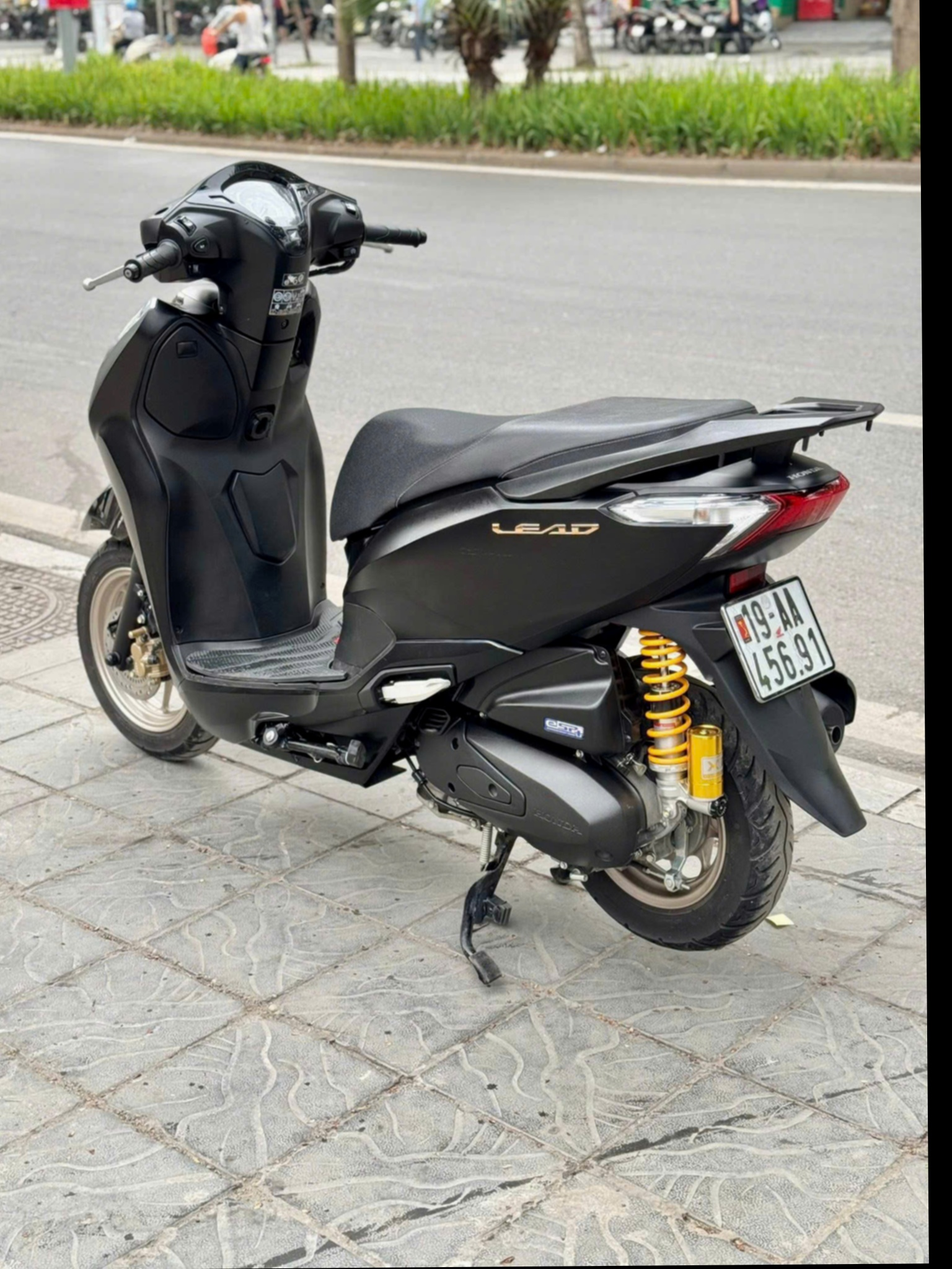Bien-so: (766, 593, 891, 730)
